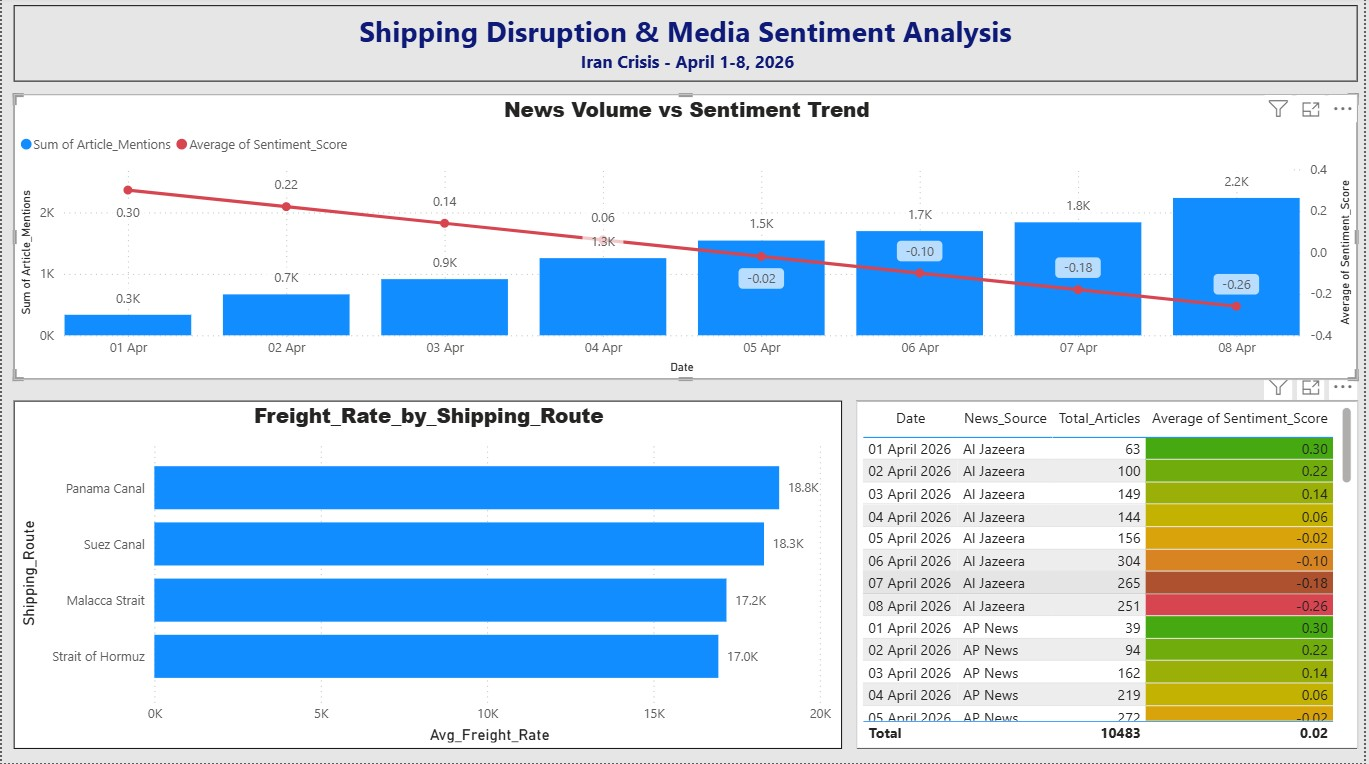

What the dashboard file says about the page in this screenshot:
{"tool":"powerbi","page":{"name":"Shipping and Sentiment","canvas":[1280,720],"ordinal":3},"visuals":[{"type":"clusteredBarChart","title":"Freight_Rate_by_Shipping_Route","fields":{"Category":["powerbi_shipping_clean.Shipping_Route"],"Y":["Sum(powerbi_shipping_clean.Avg_Freight_Rate_USD_per_TEU)"]},"box":[11,379.4,778.6,327.7],"z":0},{"type":"tableEx","fields":{"Values":["powerbi_sentiment_clean (2).Date","powerbi_sentiment_clean (2).News_Source","Sum(powerbi_sentiment_clean (2).Article_Mentions)","powerbi_sentiment_clean (2).Sentiment_Score"]},"box":[802.8,379.4,471.8,327.7],"z":1000},{"type":"textbox","box":[11,7.7,1263.3,71.5],"z":2000},{"type":"lineStackedColumnComboChart","title":"News Volume vs Sentiment Trend","fields":{"Y2":["Avg(powerbi_sentiment_clean (2).Sentiment_Score)"],"Y":["Sum(powerbi_sentiment_clean (2).Article_Mentions)"],"Category":["powerbi_master.Date"]},"box":[11,91.3,1263.7,268.3],"z":3000}]}

Visuals, with their boxes in screenshot pixels (x1, y1, x2, y2), scaled from the page's 1280x720 canvas onto the 1369x764 screenshot:
"Freight_Rate_by_Shipping_Route" clusteredBarChart: 12 403 845 750
tableEx - powerbi_sentiment_clean (2).Date x powerbi_sentiment_clean (2).News_Source: 859 403 1363 750
textbox: 12 8 1363 84
"News Volume vs Sentiment Trend" lineStackedColumnComboChart: 12 97 1363 382
